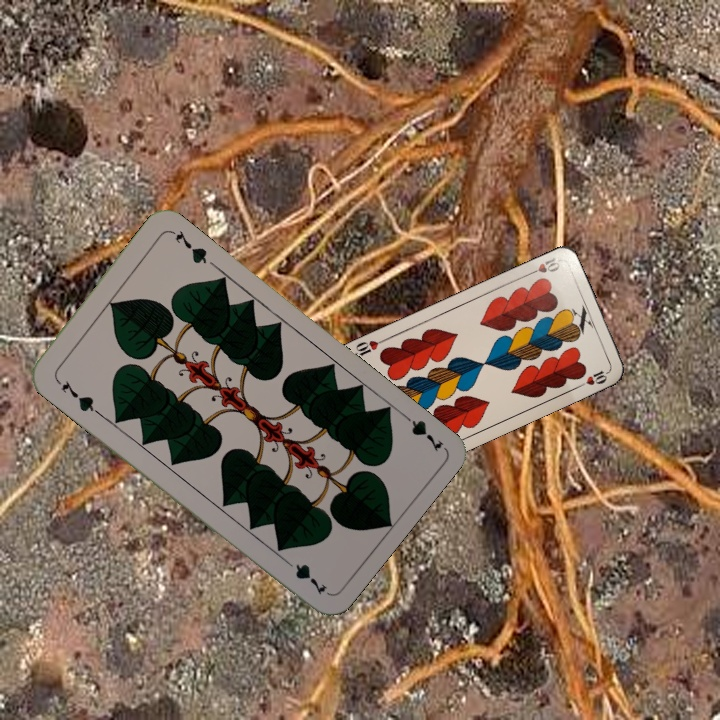G7: (396, 407, 446, 454), (57, 376, 101, 416)
H10: (523, 253, 562, 278)
